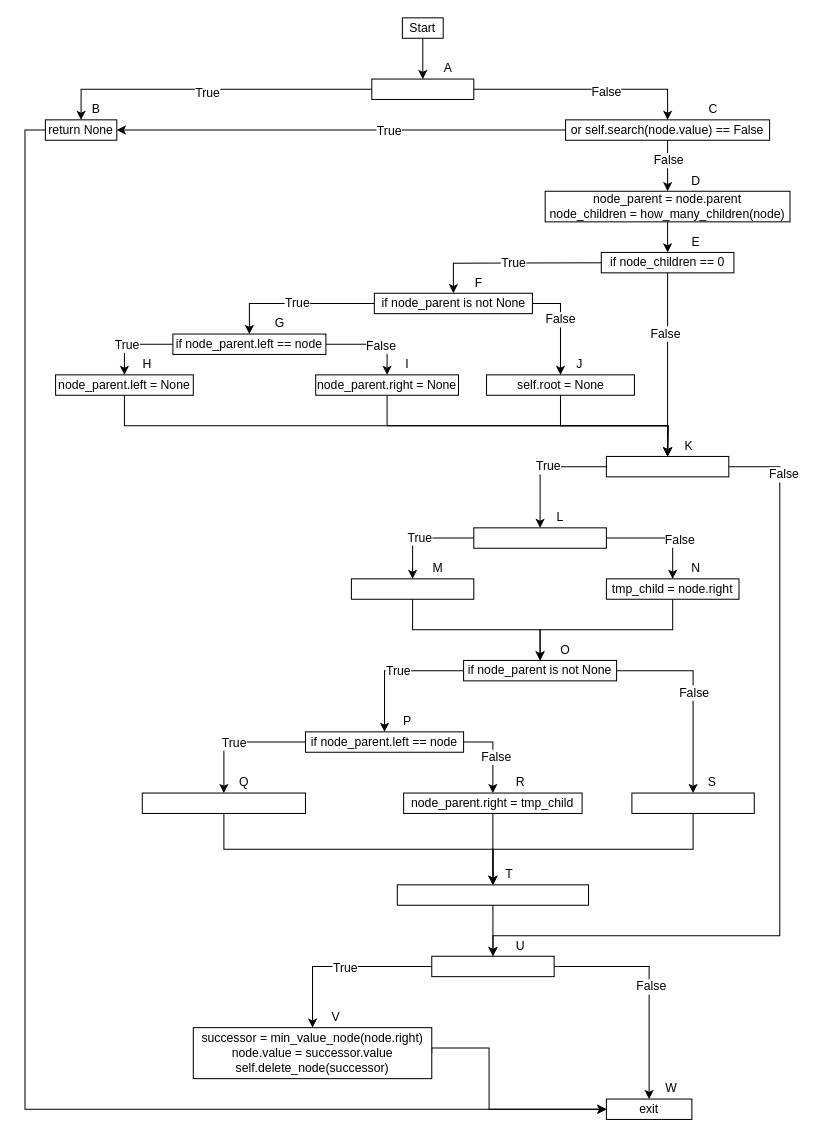
This 816x1137 diagram has some shape labels left out. The shapes that lost their labels are listed below. From the top down, each one's centre as x and y in pixels, then its label:
At point (422, 88): "if node == None".
At point (667, 466): "if node_children == 1".
At point (539, 537): "if node.left is not None".
At point (412, 588): "tmp_child = node.left".
At point (223, 802): "node_parent.left = tmp_child".
At point (692, 802): "self.root = tmp_child".
At point (492, 894): "tmp_child.parent = node_parent".
At point (492, 966): "if node_children == 2".
